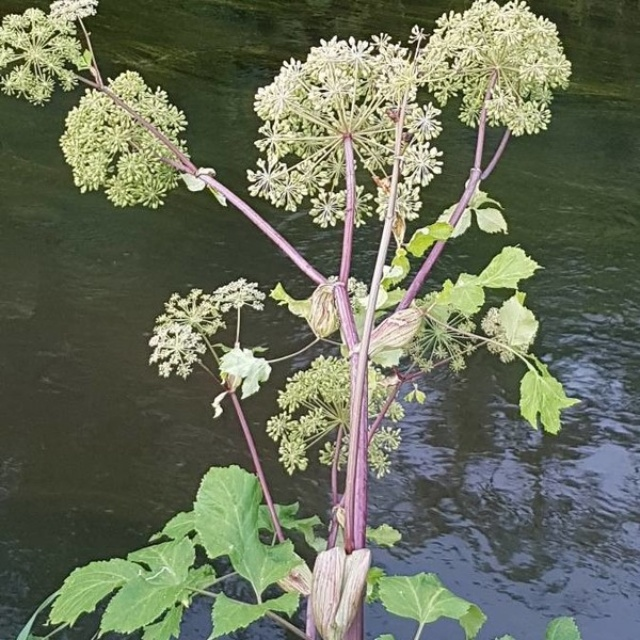obstacle: (82, 23, 562, 615)
